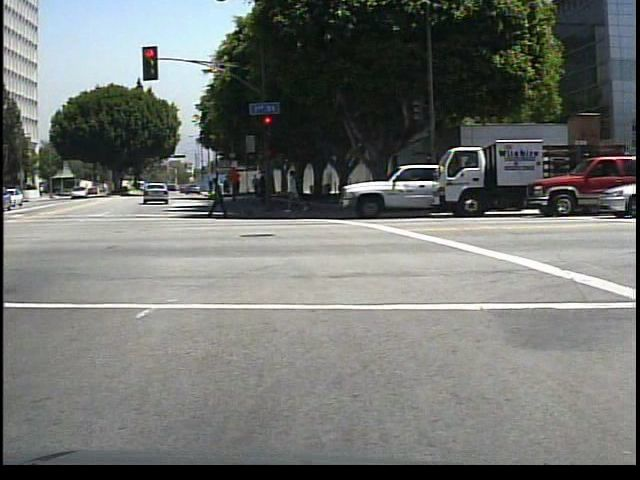person: (284, 167, 308, 215), (208, 176, 232, 218), (255, 170, 272, 213), (250, 172, 262, 198)
